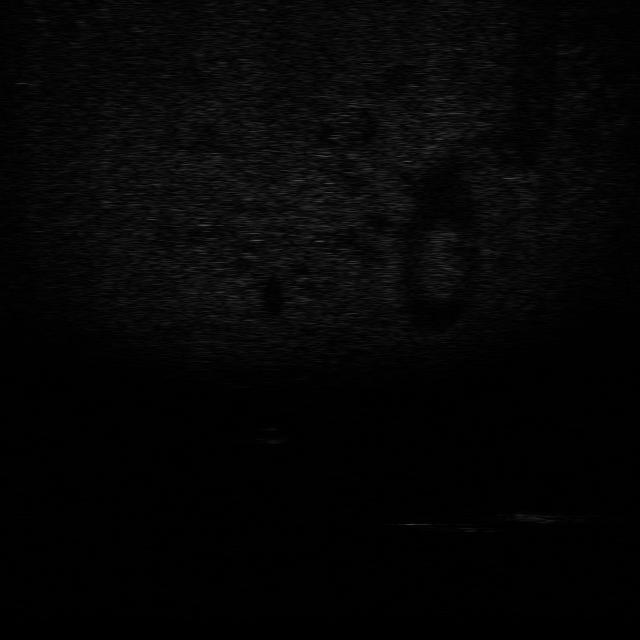ball: (255, 423, 289, 446)
metal bucket: (500, 505, 589, 531)
tyre: (401, 517, 495, 534)
